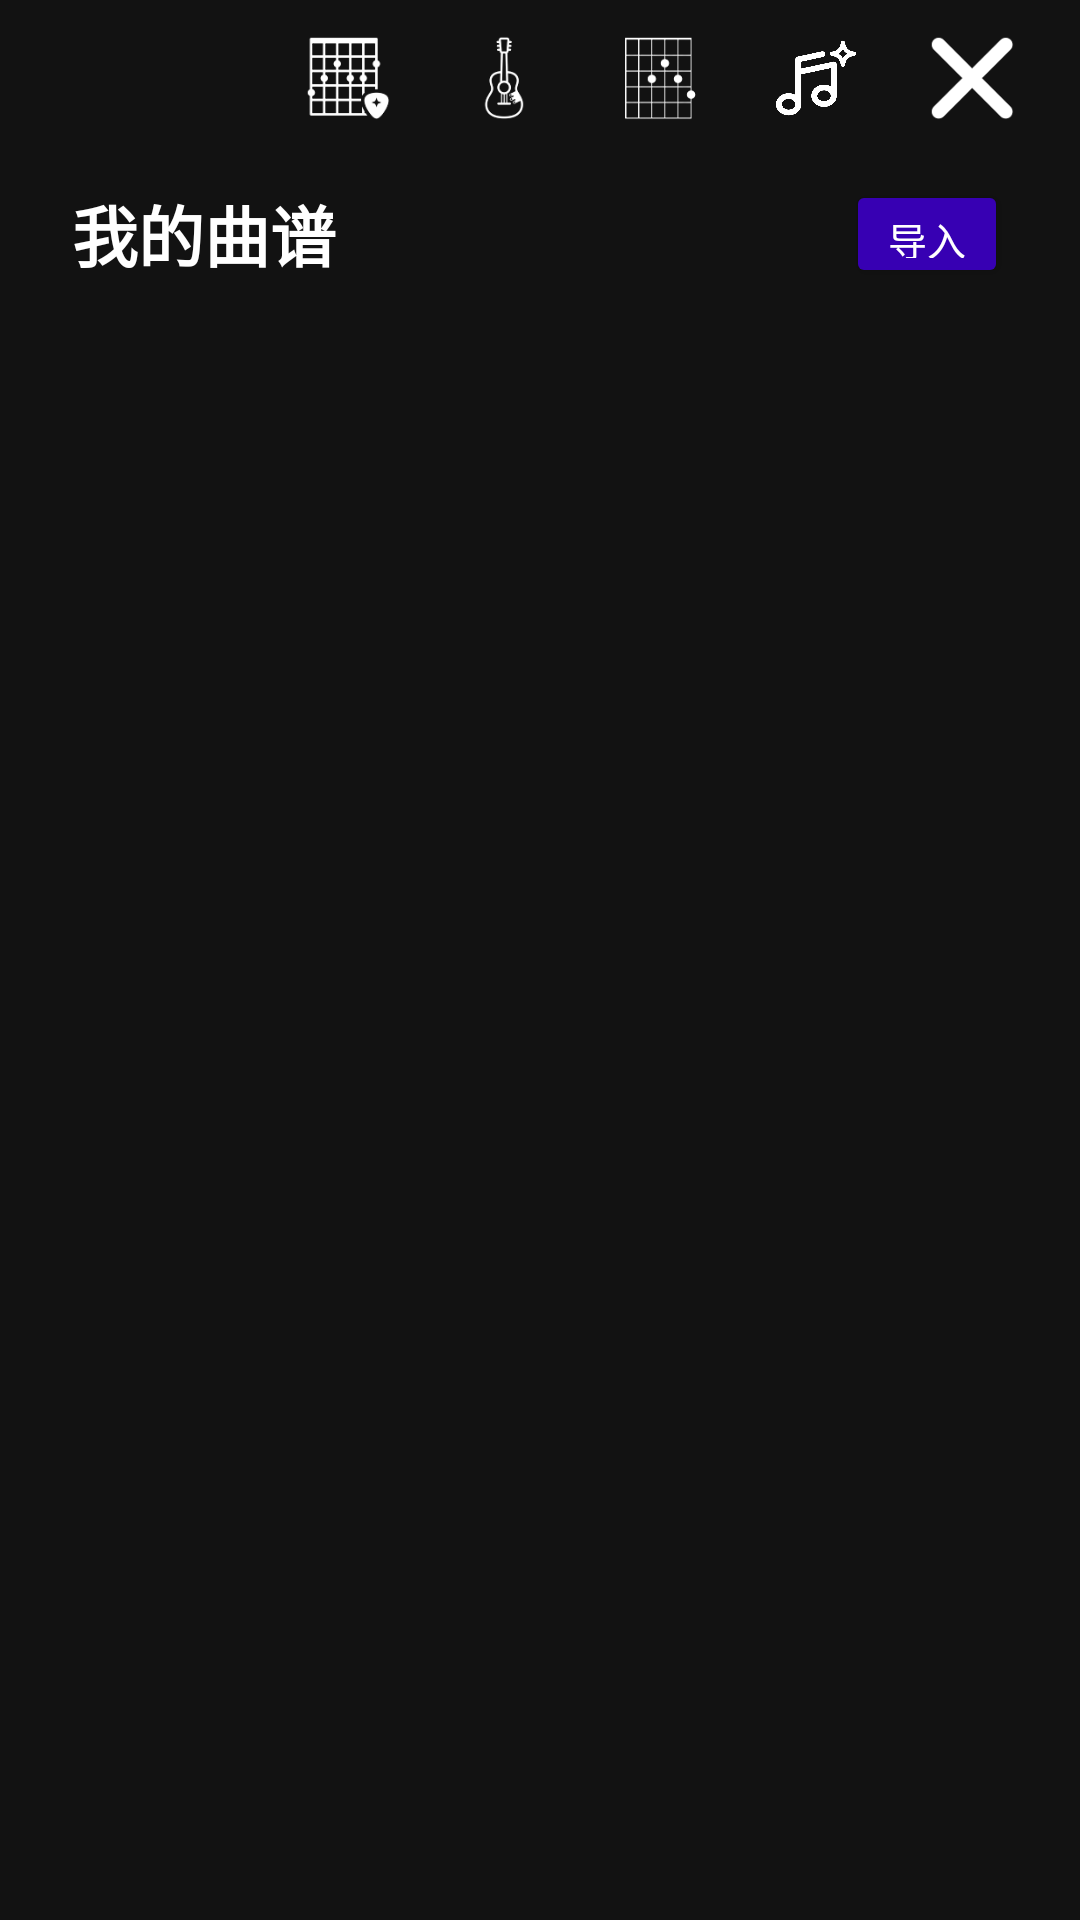

Named icons in this screenshot (1080×1920) and their centers, (x=x, y=y):
close: (x=972, y=78)
fingerstyle: (x=504, y=78)
